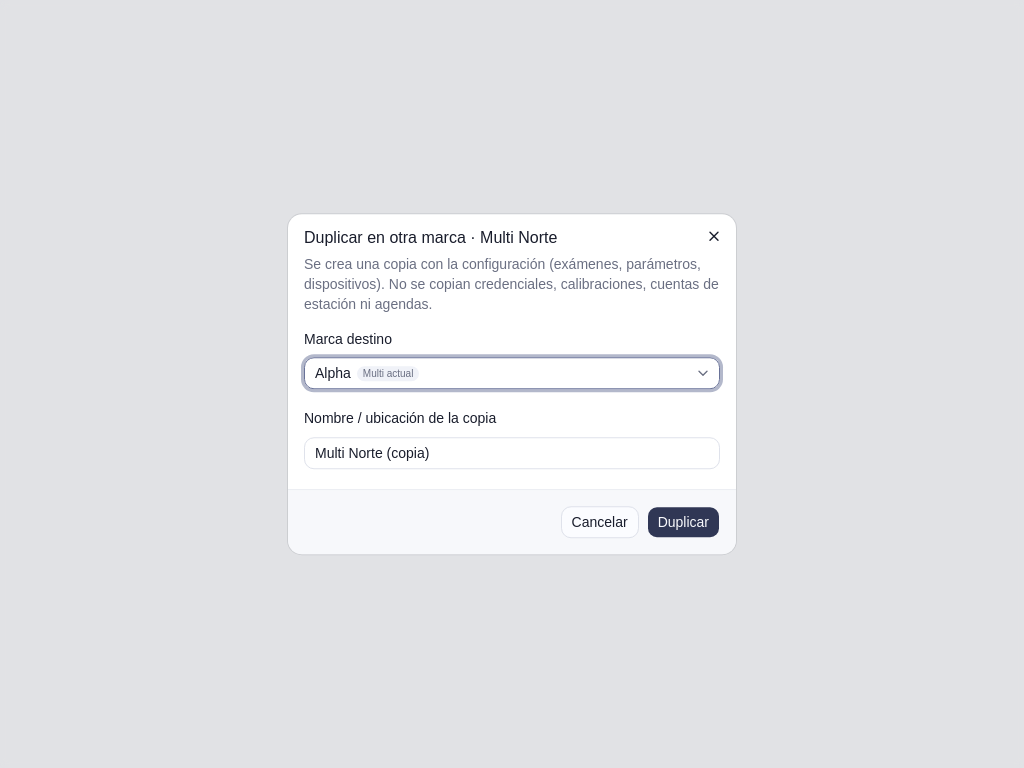
KioskActionDialog › duplicates into the chosen brand with a custom location and reports what was not copied
This screenshot has width=1024, height=768.
Expected: the dialog shows "Duplicar en otra marca · Multi Norte", [288, 214, 736, 554]
Click the dropdown named "Marca destino": (333, 374) [304, 358, 720, 390]
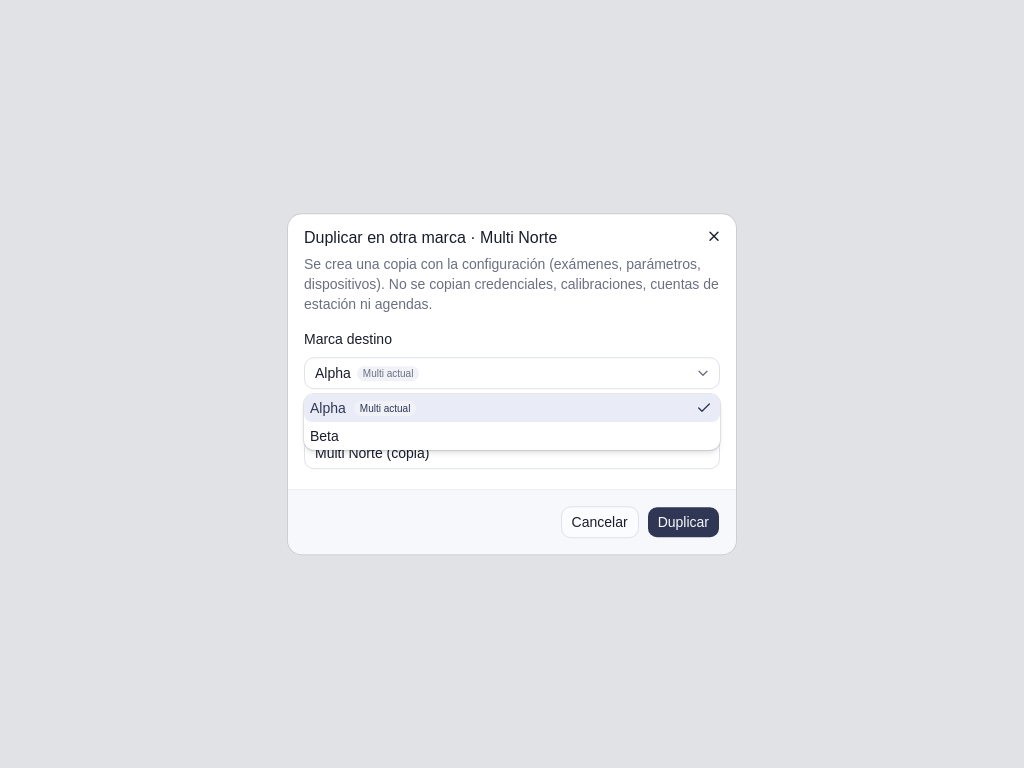
Click the option "Beta": (324, 436) [310, 428, 339, 444]
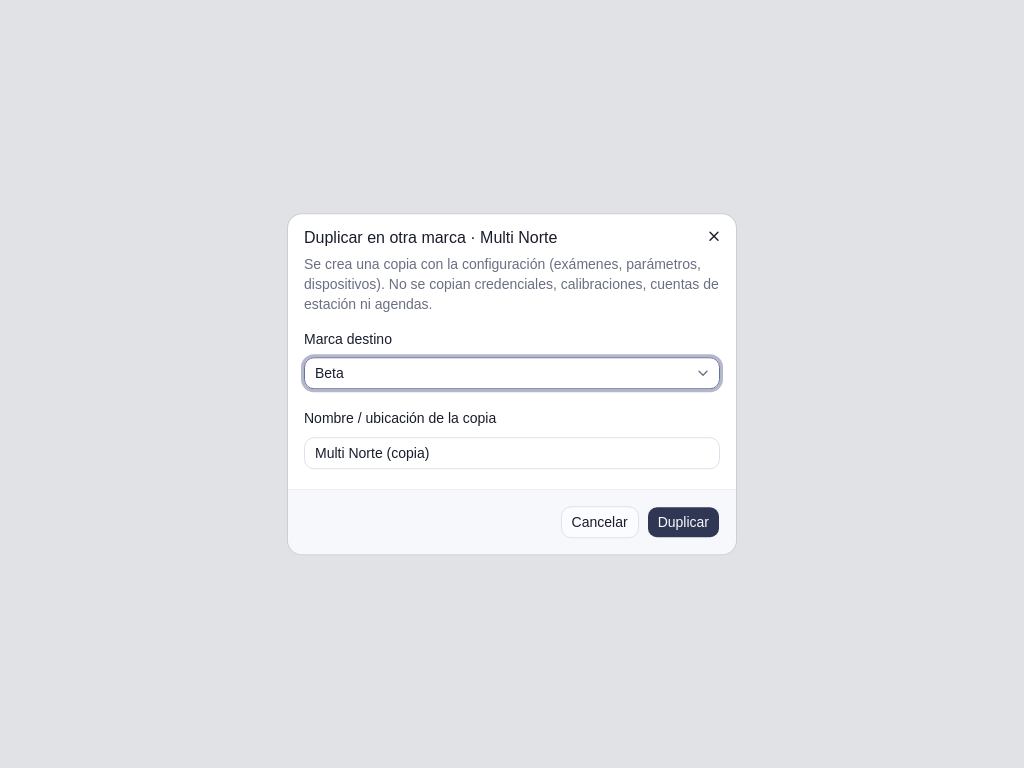
Replace the text in the field labelled "Nombre / ubicación de la copia" with "  Multi Norte (Beta)  ": (512, 453) [304, 437, 720, 469]
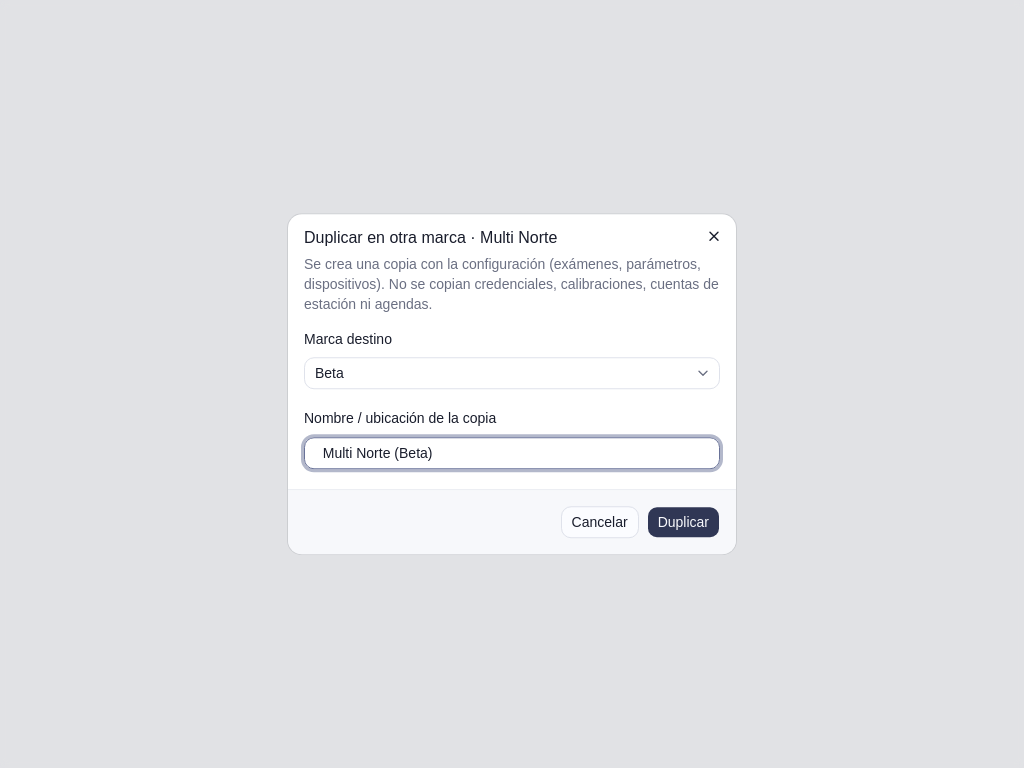
Click the button "Duplicar": (683, 522) [647, 506, 720, 538]
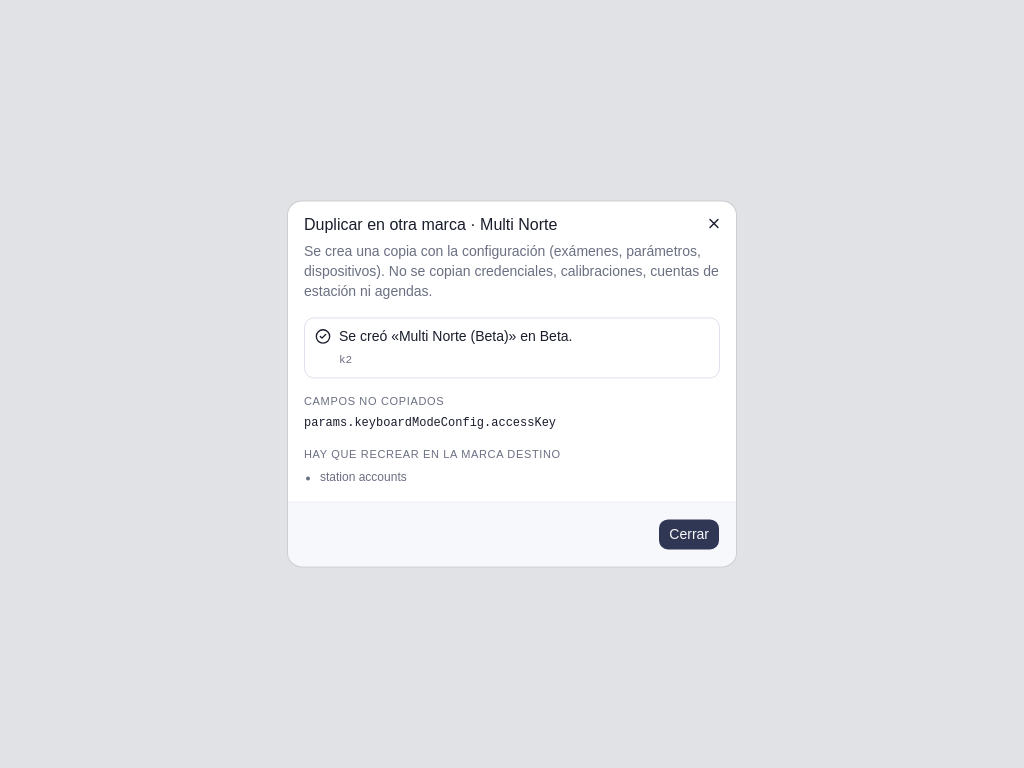
Now the message shows "Se creó «Multi Norte (Beta)» en Beta.", box [339, 328, 572, 344]
Now the list item "params.keyboardModeConfig.accessKey" is shown, box [304, 417, 556, 431]
Now the list item "station accounts" is shown, box [320, 471, 407, 485]
